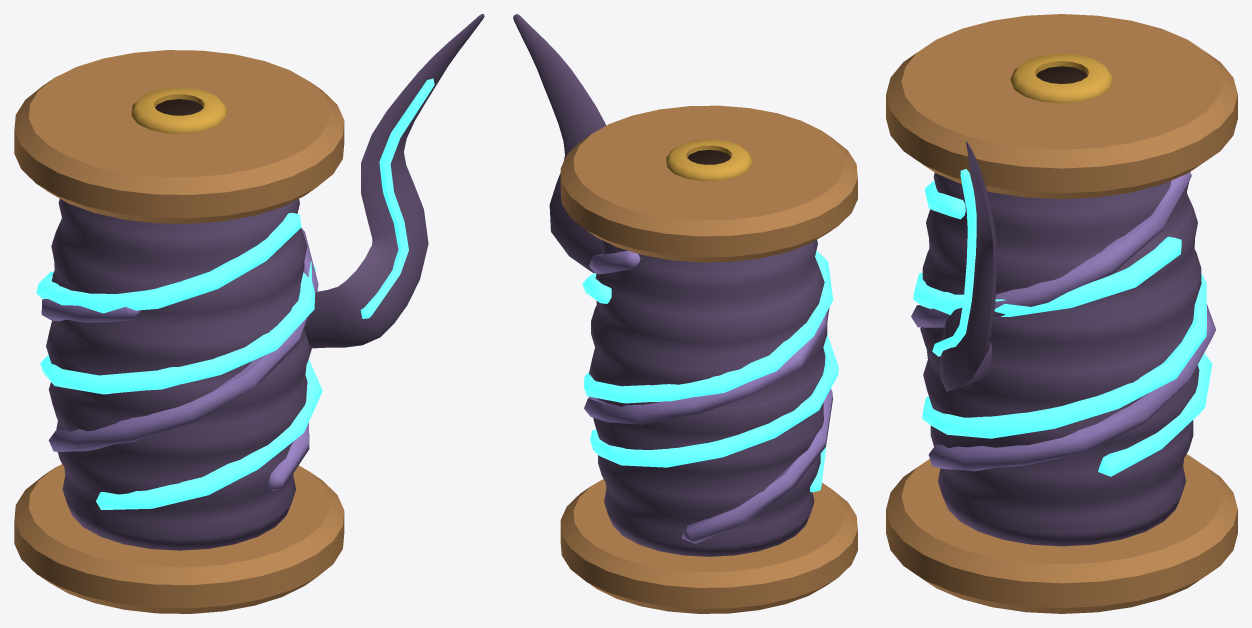
File: item_shade_silk.glb
The picture shows the model from 3 angles, left to right: view 1: azimuth 30°, elevation 25°; view 2: azimuth 150°, elevation 25°; view 3: azimuth 270°, elevation 25°; orthographic projection. The views are drawn at different scales.
Visible parts, largest first — view 1: ShadeSilk; view 2: ShadeSilk; view 3: ShadeSilk.
Part boxes in pixels (bbox=[...]): ShadeSilk: bbox=[14, 14, 484, 613]; ShadeSilk: bbox=[513, 14, 857, 613]; ShadeSilk: bbox=[886, 14, 1237, 613].
Size of the model in its own units: 0.291 by 0.3539 by 0.206.
